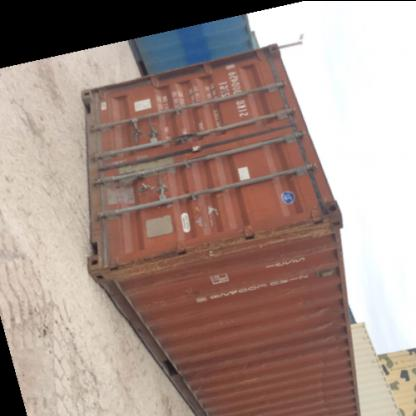Damage: (249, 219, 333, 252), (112, 245, 192, 277), (115, 153, 183, 173), (316, 358, 334, 416), (310, 301, 342, 332), (194, 200, 224, 228)
